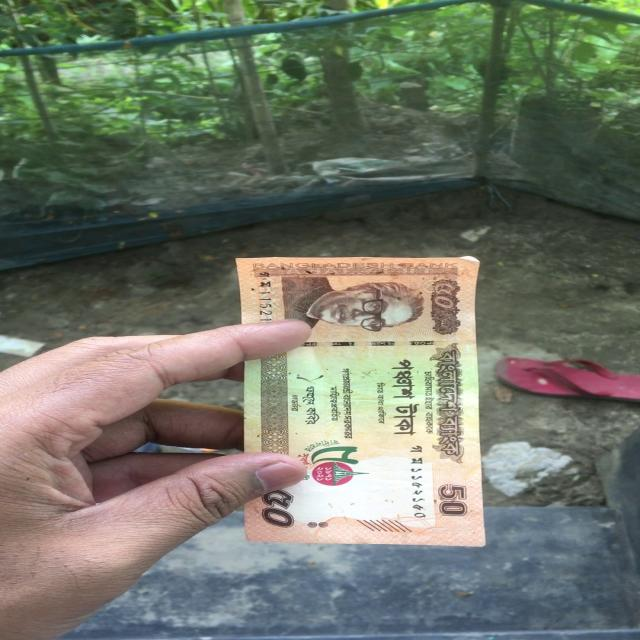Taka: (268, 260, 485, 547)
